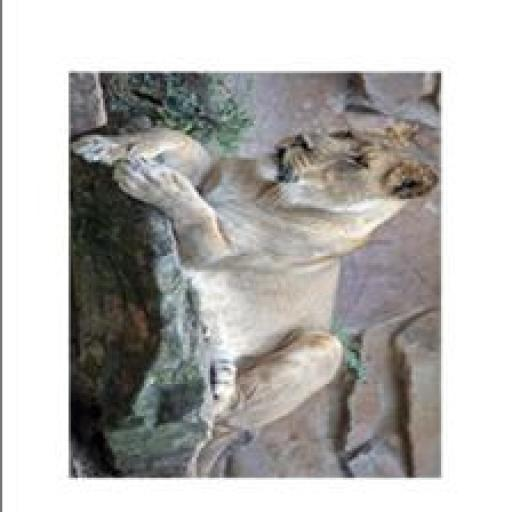lion: (25, 114, 429, 481)
